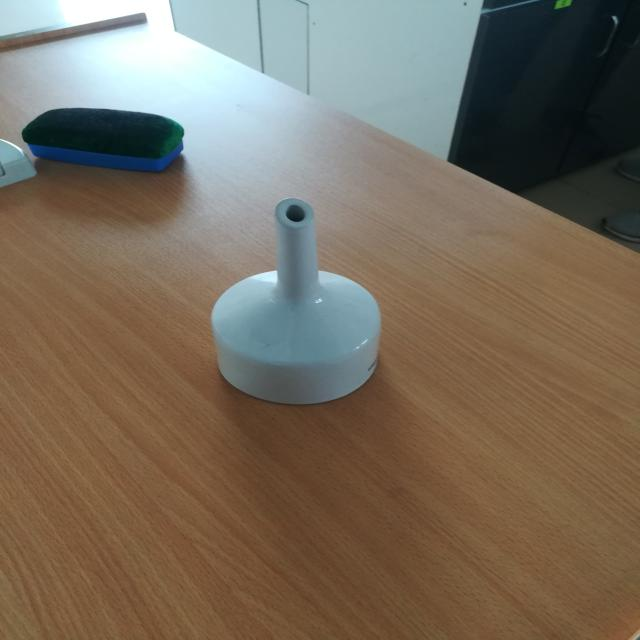Buchner_Funnel: (179, 158, 426, 438)
